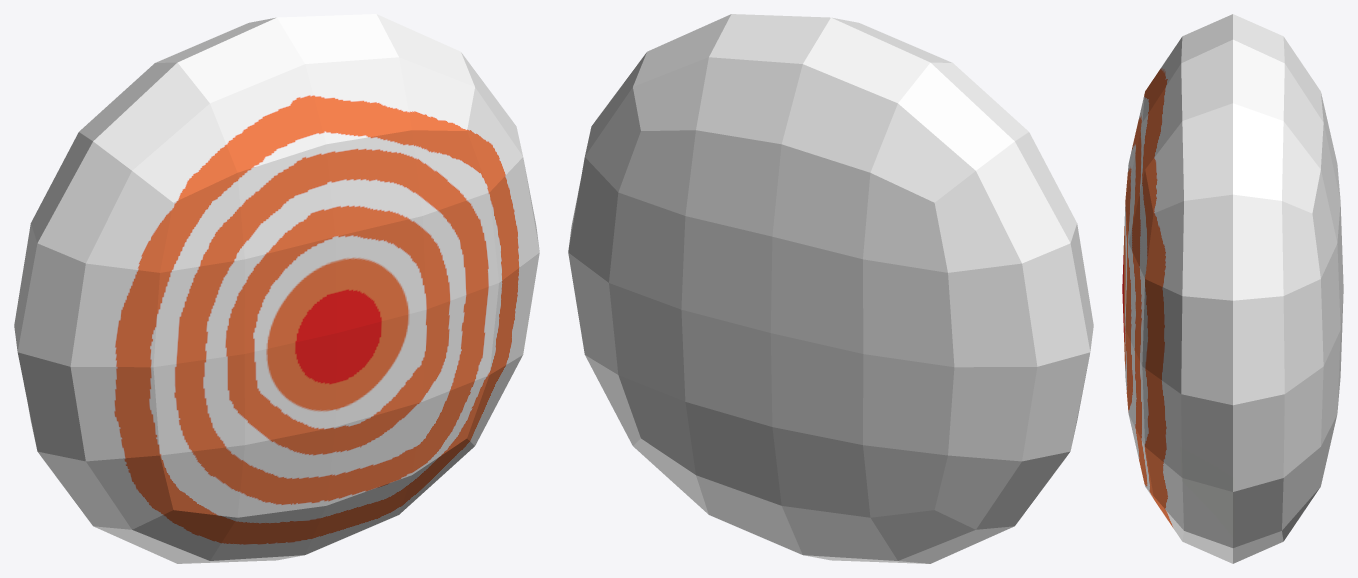
Rendered from target.glb.
The picture shows the model from 3 angles, left to right: view 1: azimuth 30°, elevation 25°; view 2: azimuth 150°, elevation 25°; view 3: azimuth 270°, elevation 25°; orthographic projection. The views are drawn at different scales.
Visible parts, largest first — view 1: Cube; view 2: Cube; view 3: Cube.
Boxes of the visible parts, bbox=[...] form: Cube: bbox=[14, 14, 539, 563]; Cube: bbox=[568, 14, 1093, 563]; Cube: bbox=[1122, 14, 1343, 563].
Size of the model in its own units: 4.1 by 4.1 by 1.65.
1 material, 1 textured.
